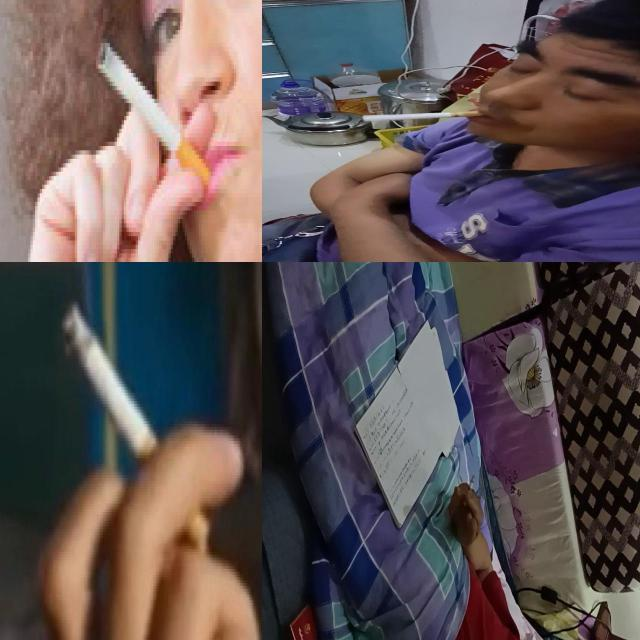smoking: (94, 38, 211, 192), (58, 293, 162, 464), (362, 110, 490, 122), (463, 475, 475, 507)
